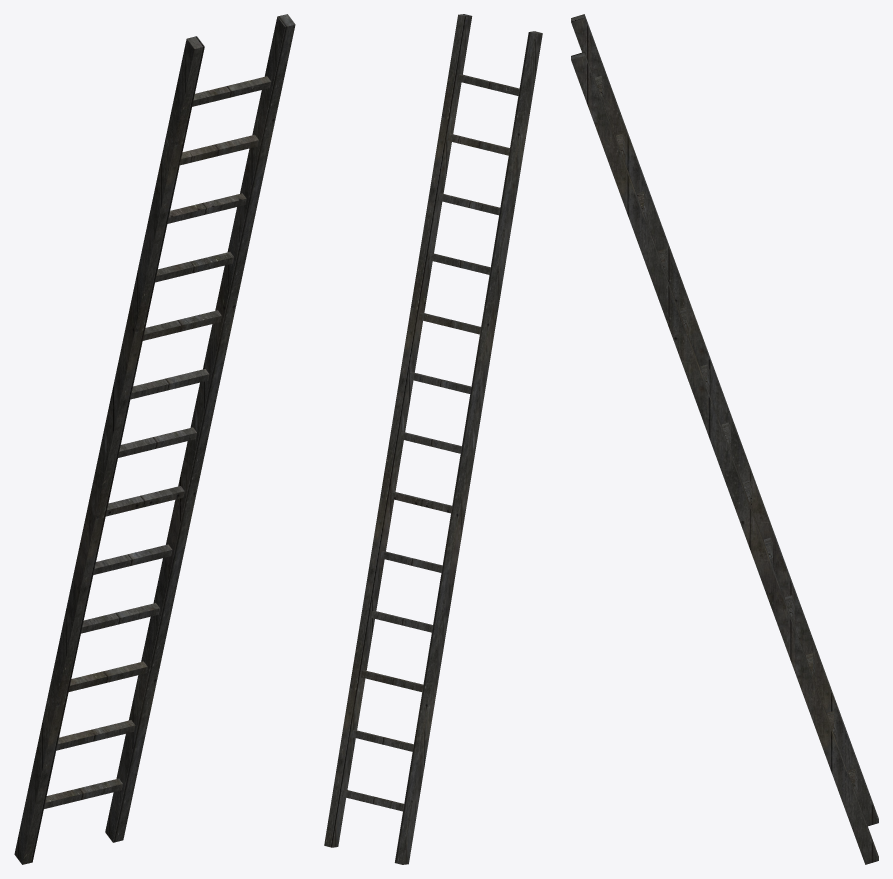
The model's file is ladder.glb.
The picture shows the model from 3 angles, left to right: view 1: azimuth 30°, elevation 25°; view 2: azimuth 150°, elevation 25°; view 3: azimuth 270°, elevation 25°; orthographic projection. The views are drawn at different scales.
Parts seen in each view (by area): view 1: ladder; view 2: ladder; view 3: ladder.
Part boxes in pixels (left/top/right/bottom): ladder: left=14, top=14, right=295, bottom=864; ladder: left=324, top=14, right=542, bottom=864; ladder: left=571, top=14, right=878, bottom=864.
Size of the model in its own units: 0.49 by 4.39 by 1.51.
Materials: 1 (1 with a texture image).
